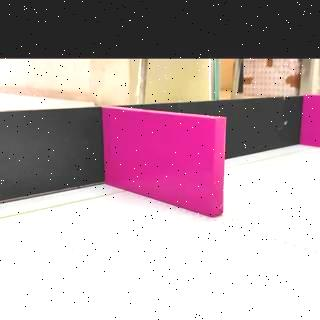xparking: (104, 117, 214, 203), (305, 98, 319, 144)
